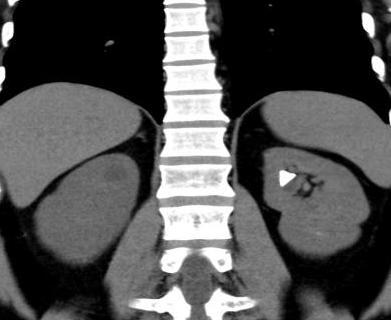Tas_Var: (274, 167, 301, 190)
